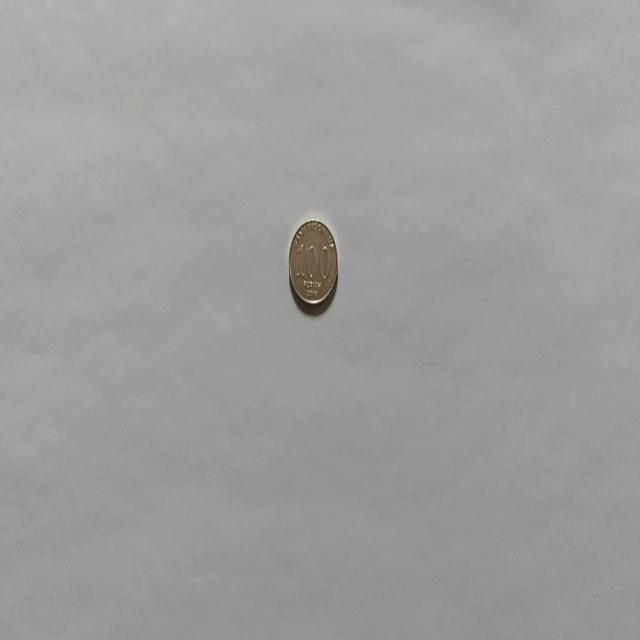seratus rupiah: (287, 216, 339, 308)
